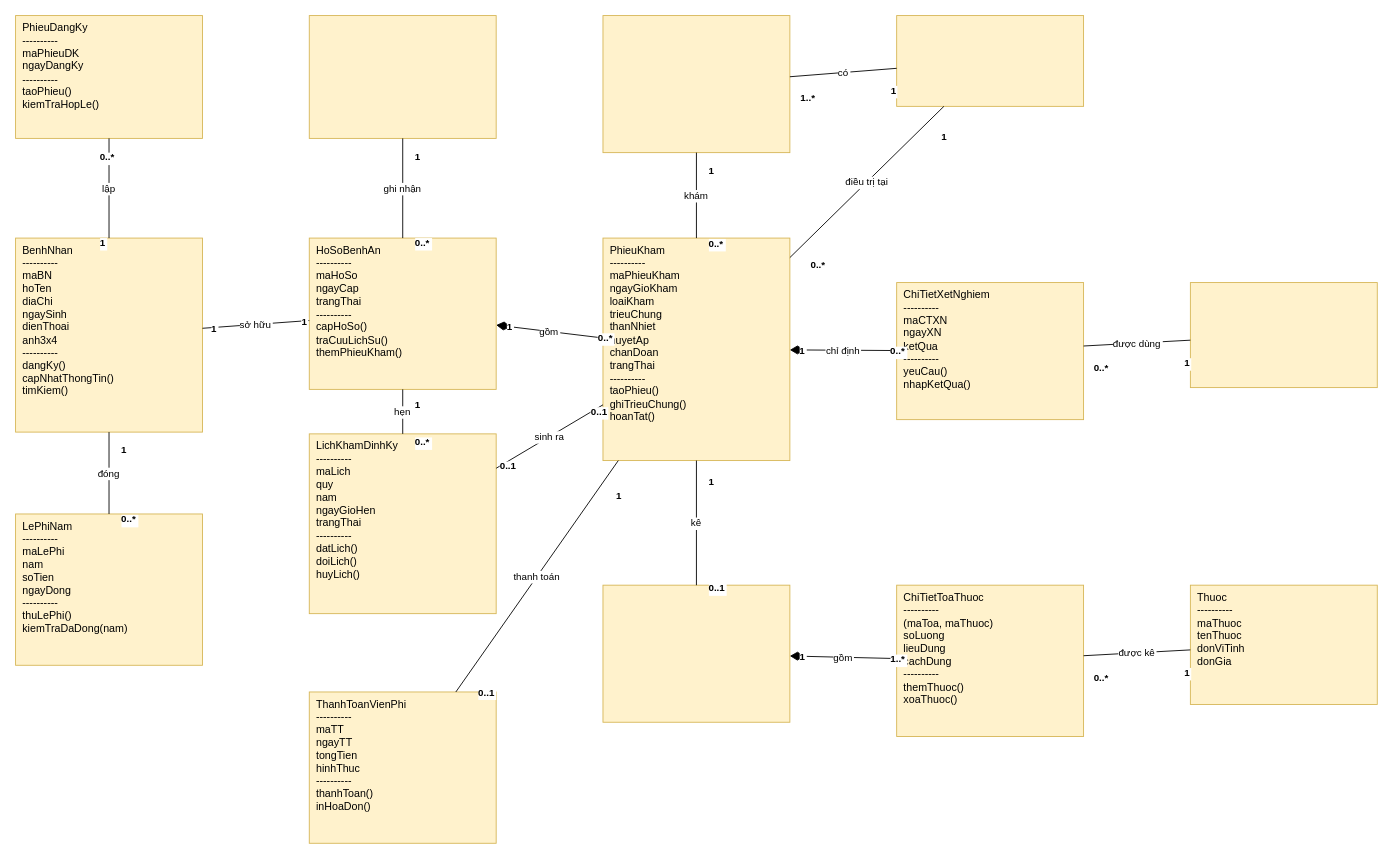
The diagram is 1393 pixels wide and 859 high, and some of its shapes have lost their labels. Each missing label, with the centre of its shape:
BacSi ---------- maBS hoTen chuyenMon ---------- xemLichSu() khamBenh(): point 696,84
Khoa ---------- maKhoa tenKhoa: point 990,60
NhanVienCSKH ---------- maNV hoTen ---------- ghiNhanHoSo() datLichHen(): point 402,76
ToaThuoc ---------- maToa ngayLap ghiChu ---------- lapToa() inToa(): point 696,653
XetNghiem ---------- maXN tenXN donGia: point 1283,335
